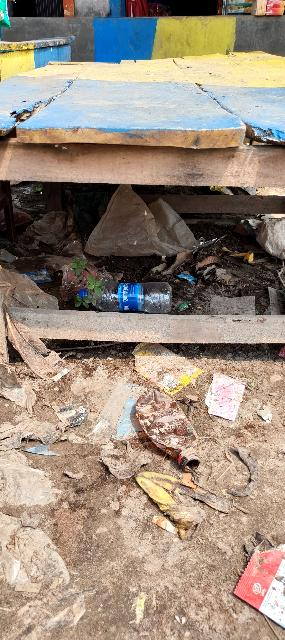bottle: (64, 261, 181, 309)
